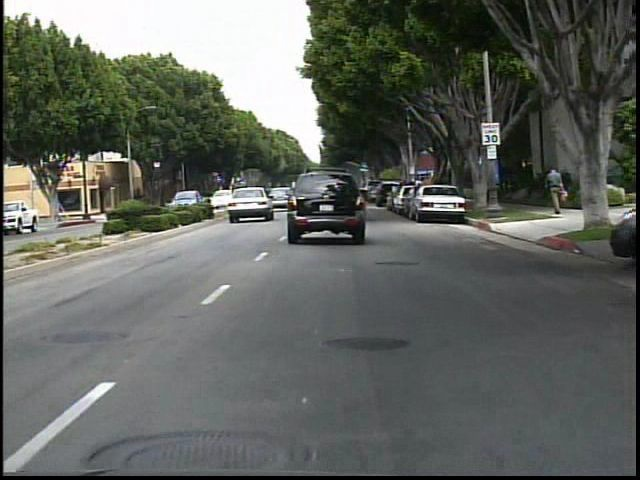person: (544, 163, 569, 219)
